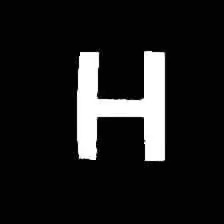LTR_H: (70, 38, 172, 163)
